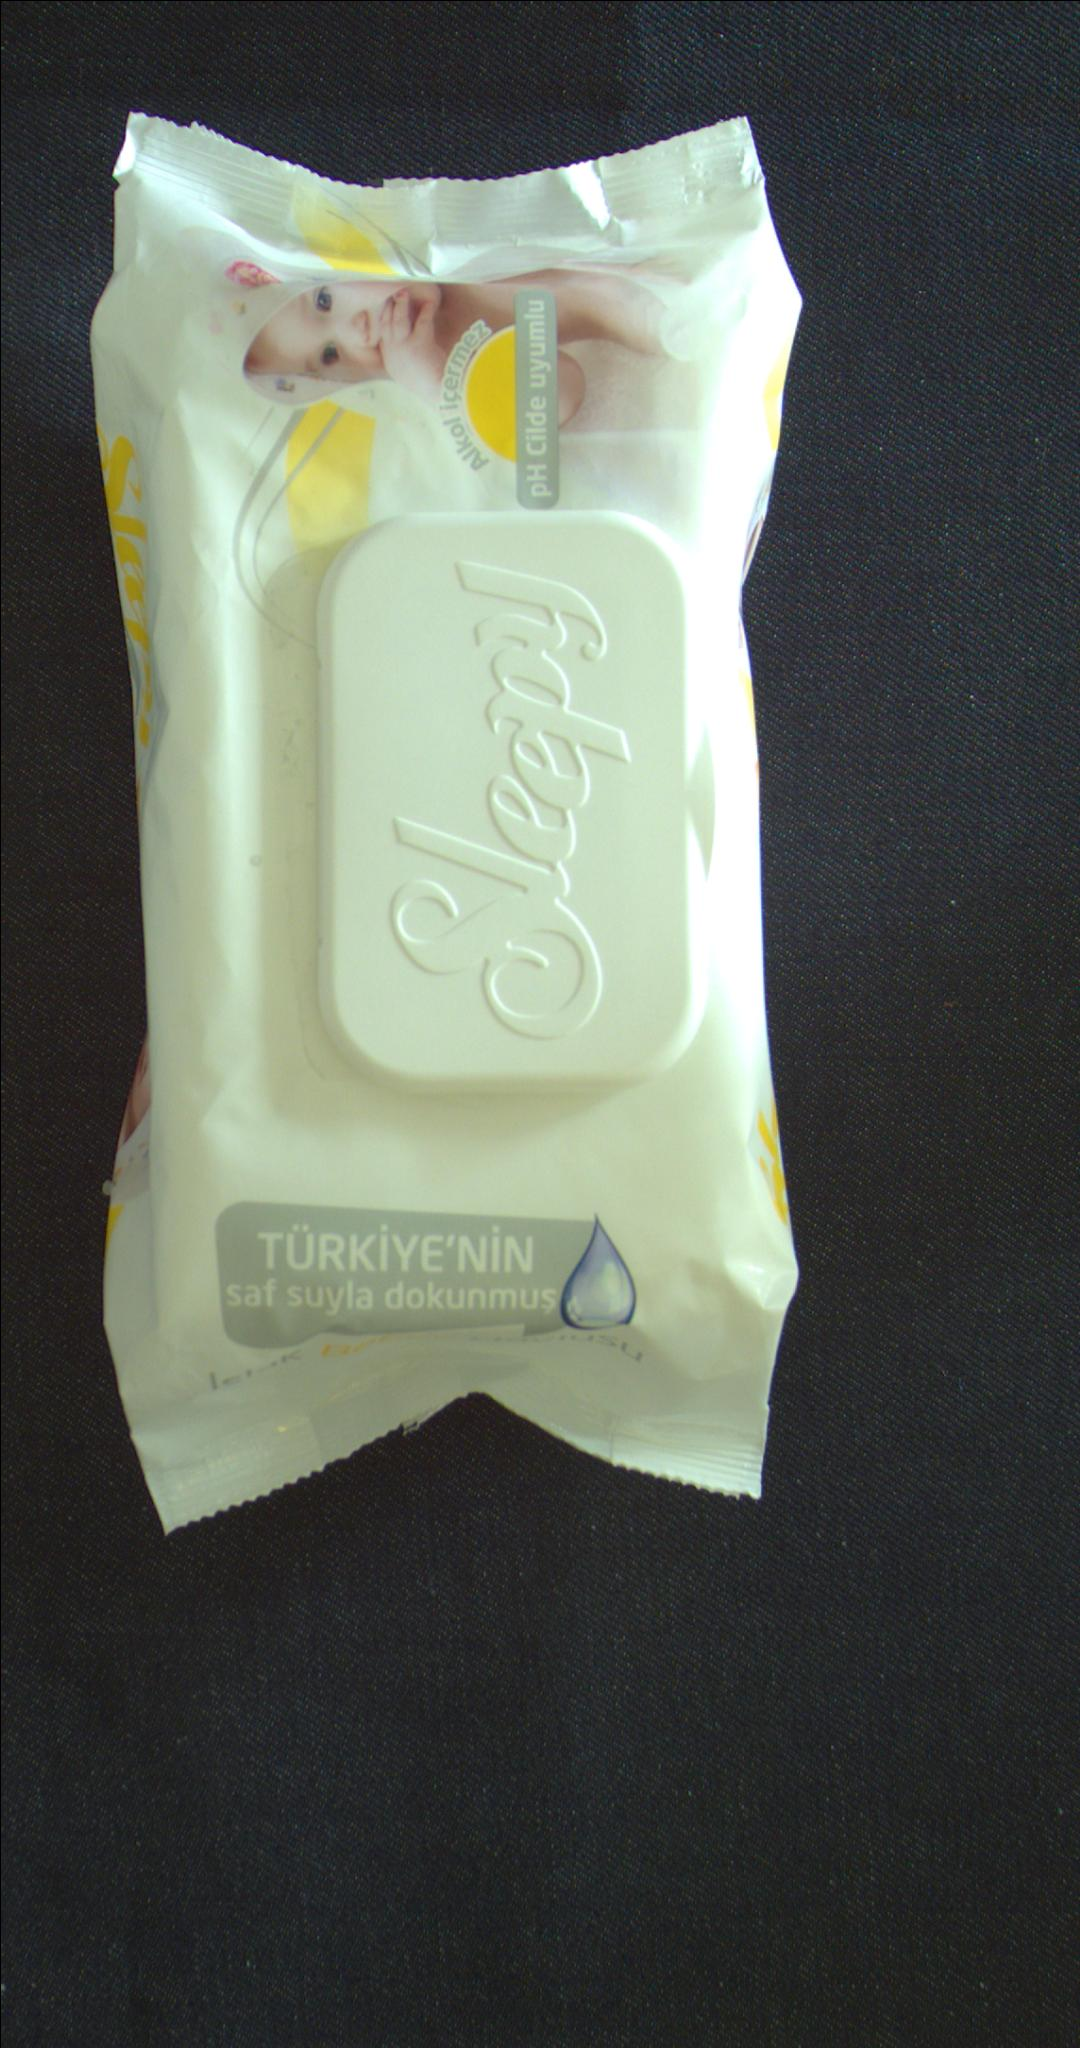kapak: (312, 516, 702, 1081)
